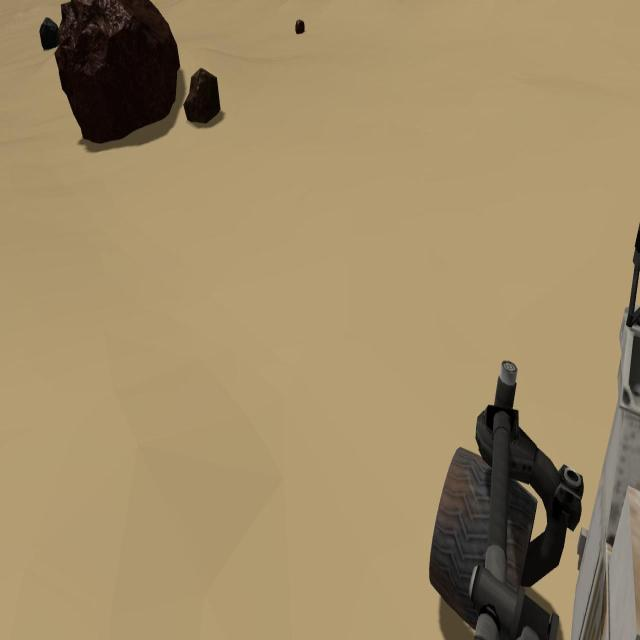rock: (56, 0, 180, 144), (184, 67, 221, 124), (38, 16, 61, 50), (295, 19, 305, 34)
